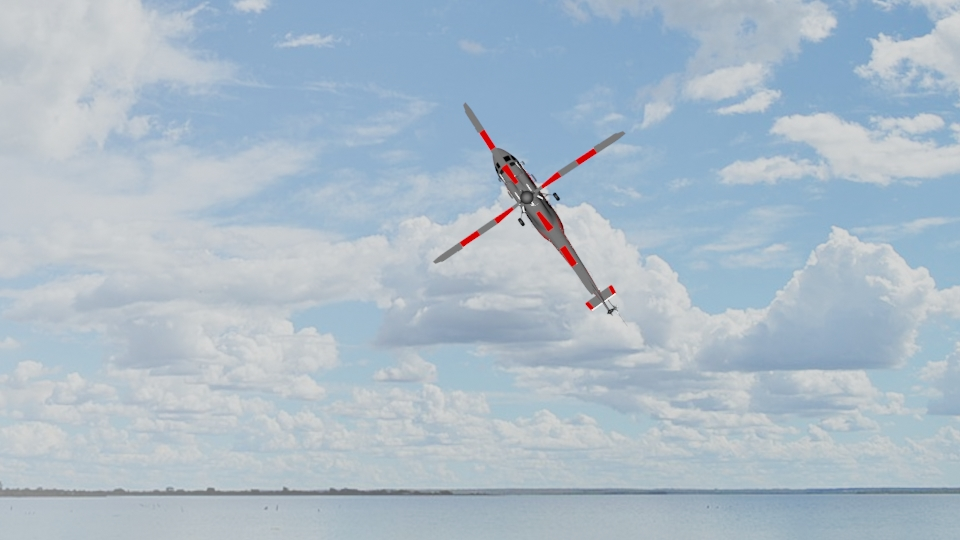heli: (432, 100, 627, 318)
